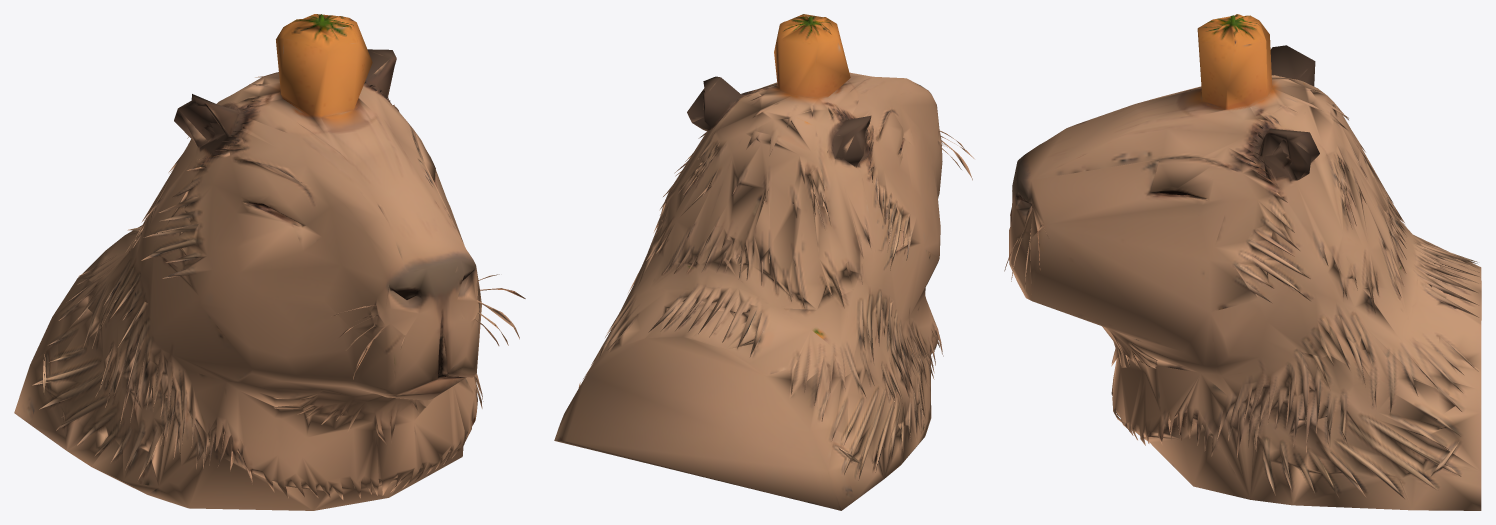
The model's file is capybara.glb.
The picture shows the model from 3 angles, left to right: view 1: azimuth 30°, elevation 25°; view 2: azimuth 150°, elevation 25°; view 3: azimuth 270°, elevation 25°; orthographic projection. The views are drawn at different scales.
Parts seen in each view (by area): view 1: material; view 2: material; view 3: material.
Part boxes in pixels (bbox=[...]): material: bbox=[14, 14, 525, 510]; material: bbox=[554, 14, 974, 510]; material: bbox=[1004, 14, 1481, 510].
Bounding box in the file's own units: 0.5806 × 0.729 × 0.7554.
Materials: 1 (1 with a texture image).
